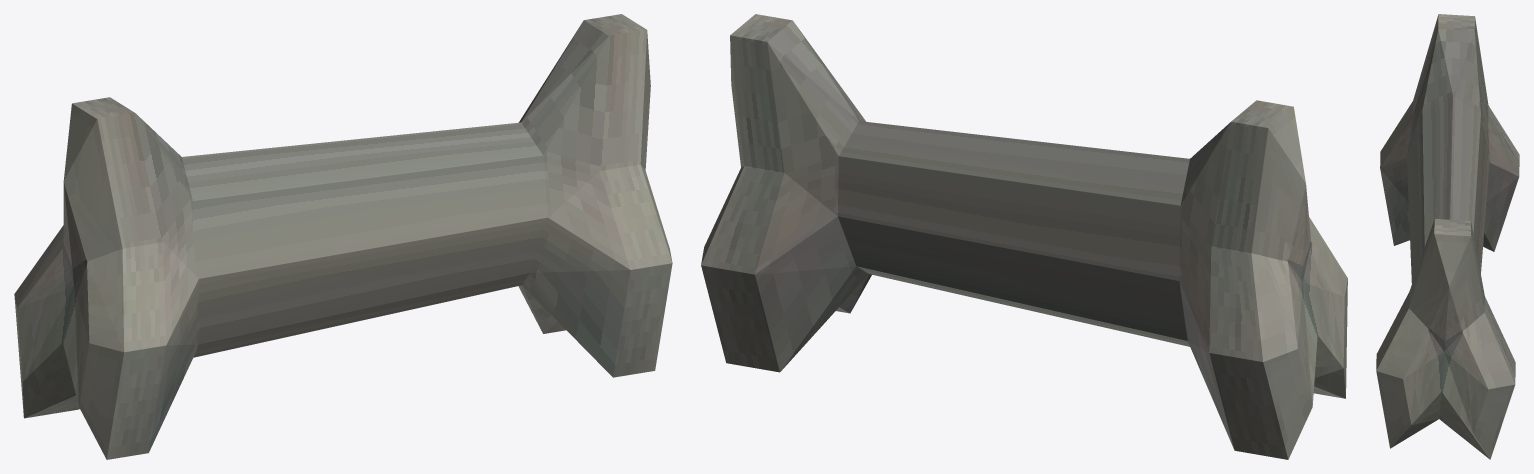
File: 1point2.obj
The picture shows the model from 3 angles, left to right: view 1: azimuth 30°, elevation 25°; view 2: azimuth 150°, elevation 25°; view 3: azimuth 270°, elevation 25°; orthographic projection. The views are drawn at different scales.
Visible parts, largest first — view 1: Object_BoneSS00_jpg; view 2: Object_BoneSS00_jpg; view 3: Object_BoneSS00_jpg.
Part boxes in pixels (x1=…): Object_BoneSS00_jpg: x1=14, y1=14, x2=672, y2=459; Object_BoneSS00_jpg: x1=701, y1=14, x2=1347, y2=459; Object_BoneSS00_jpg: x1=1376, y1=14, x2=1519, y2=459.
Size of the model in its own units: 1.27 by 0.7246 by 0.3635.
Materials: 1 (1 with a texture image).
